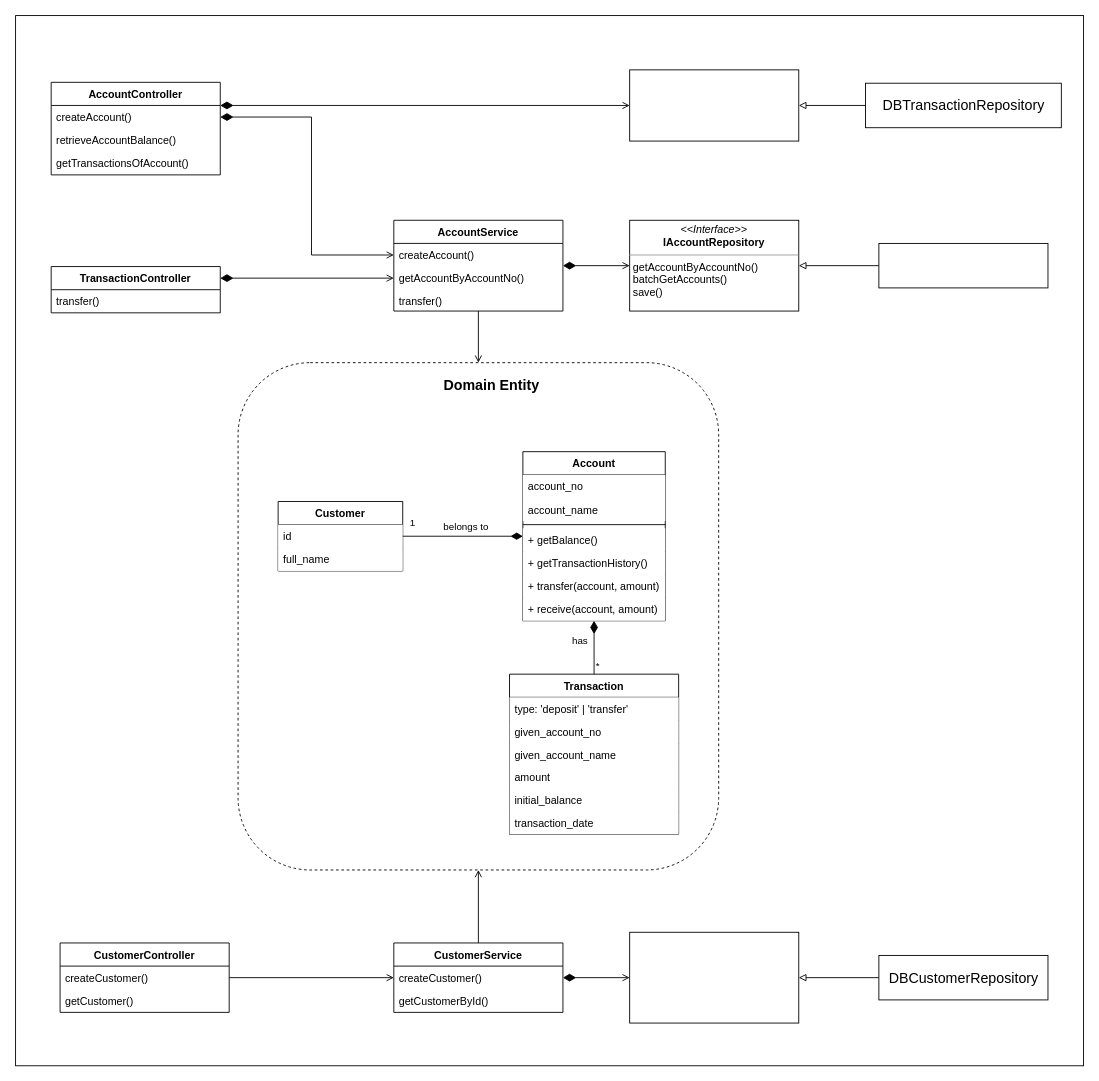
This 1099x1081 diagram has some shape labels left out. Each missing label, with the centre of its shape:
<<Interface>> ICustomerRepository createCustomer() getCustomer(): point 714,977
<<Interface>> ITransactionRepository getTransactionsByAccountNo(): point 714,105
DBAccountRepository: point 963,265
